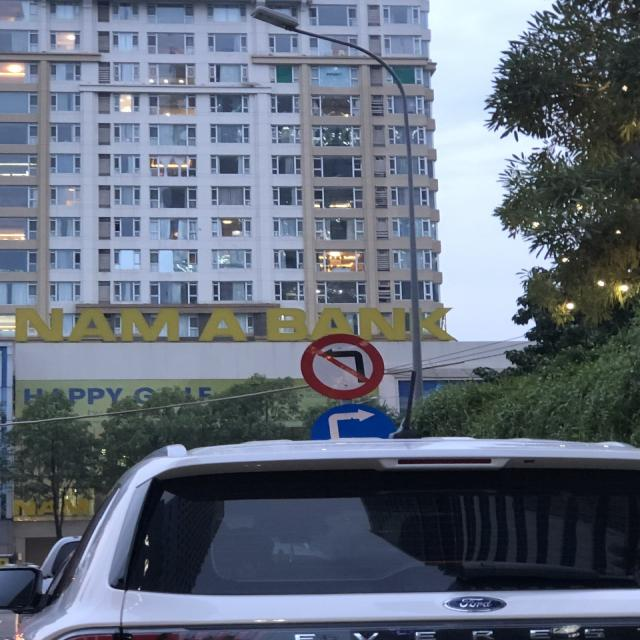Bien bao cam re trai: (296, 327, 390, 401)
